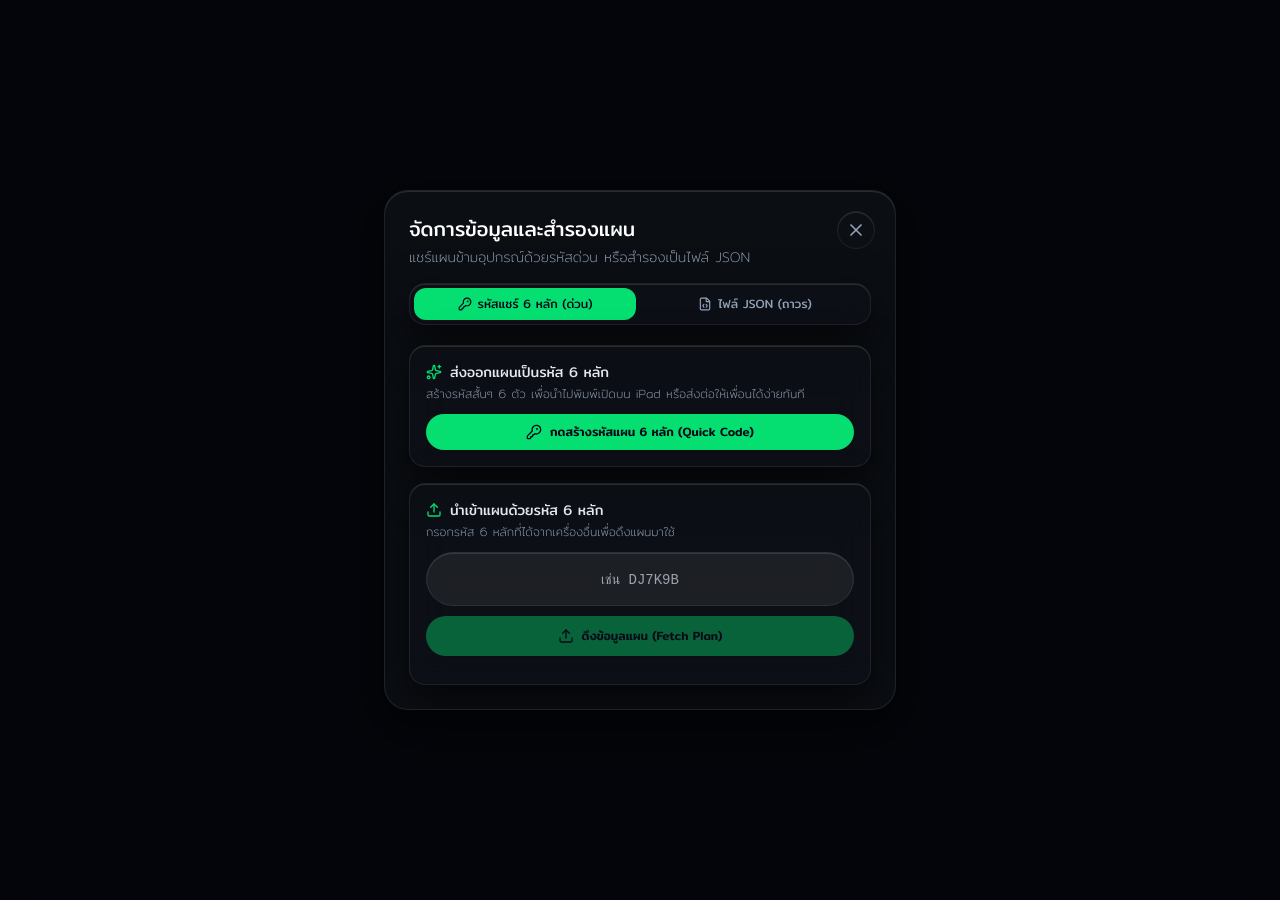
Scenario: ExportImportModal Component › switches to JSON tab when clicked
The image size is (1280, 900).
Click the button "ไฟล์ JSON (ถาวร)": (755, 304) [644, 288, 866, 320]
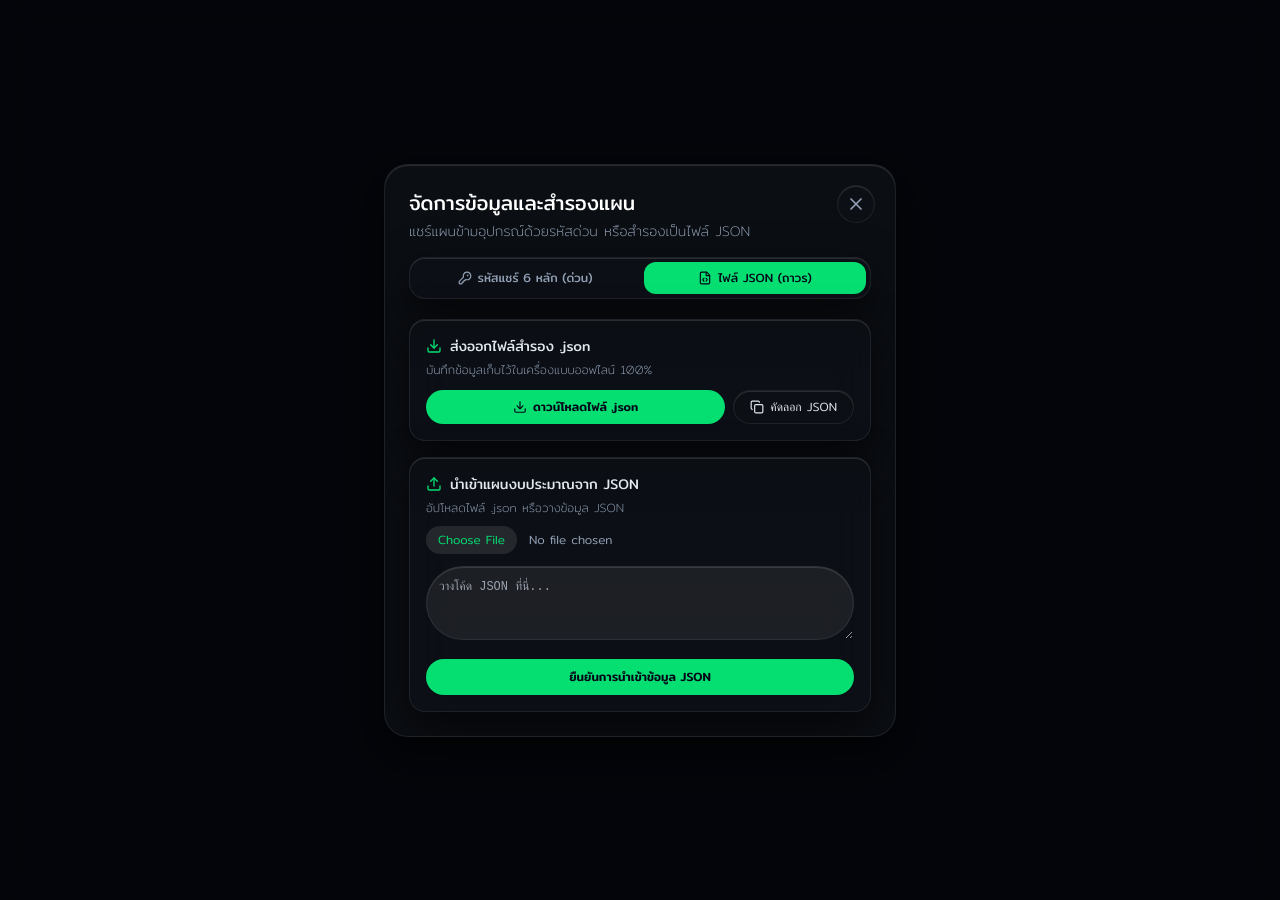
Expected: the text "ส่งออกไฟล์สำรอง .json" is shown, [450, 334, 590, 356]
Expected: the text box with placeholder "วางโค้ด JSON ที่นี่..." is shown, [426, 566, 854, 640]
